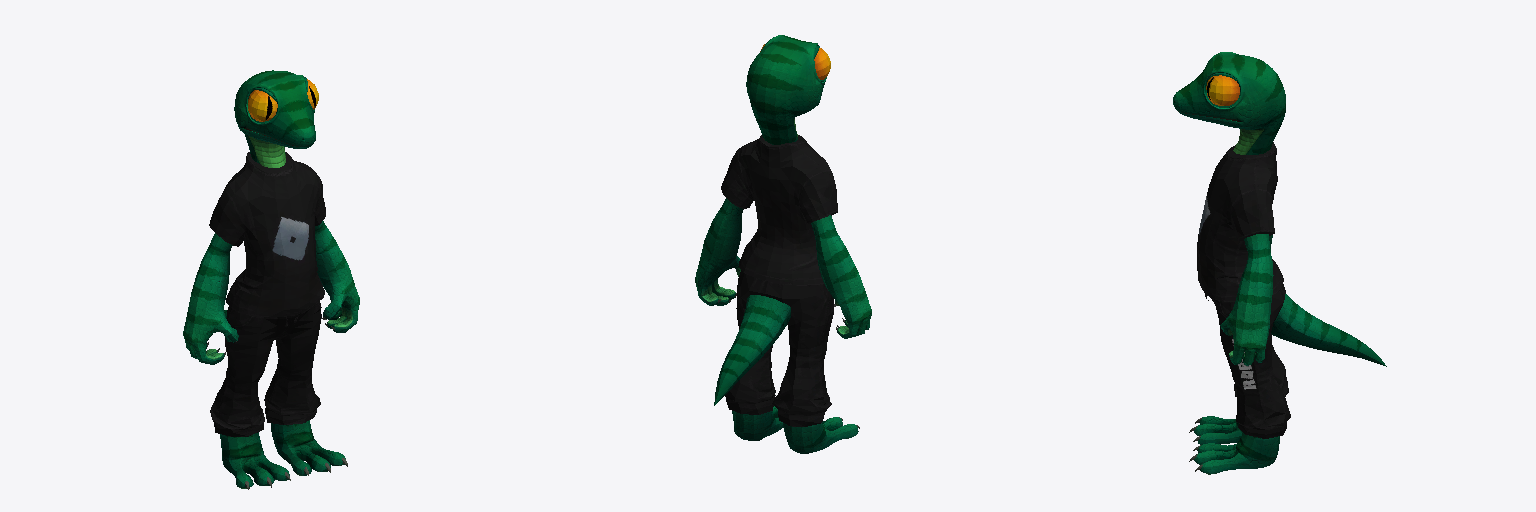
3 renders of one model, left to right at view 1: azimuth 30°, elevation 25°; view 2: azimuth 150°, elevation 25°; view 3: azimuth 270°, elevation 25°, orthographic.
Visible parts, largest first — view 1: Handle1, Handle2, 8, 9, 10, 3, 1, 5, 6, 2; view 2: Handle1, Handle2, 8, Handle3, 10, 6, 9, 5, 1, 3; view 3: Handle1, 8, Handle2, Handle3, 5, 6, 3, 1.
Part boxes in pixels (x1,y1,x2,y2): Handle1: (209,152,325,316); Handle2: (210,301,321,436); 8: (234,70,318,167); 9: (183,302,238,364); 10: (190,246,229,311); 3: (272,432,347,475); 1: (221,444,290,489); 5: (321,270,359,332); 6: (315,223,349,284); 2: (220,432,260,450); Handle1: (721,135,837,285); Handle2: (725,270,833,426); 8: (746,35,830,144); Handle3: (714,295,790,405); 10: (815,231,861,292); 6: (702,208,741,265); 9: (830,283,871,338); 5: (695,253,740,305); 1: (784,417,859,453); 3: (733,406,782,440); Handle1: (1197,142,1283,301); 8: (1173,52,1285,154); Handle2: (1205,284,1290,438); Handle3: (1271,294,1386,366); 5: (1220,310,1270,365); 6: (1233,253,1273,313); 3: (1189,440,1279,474); 1: (1189,416,1242,444).
Size of the model in its own units: 2.47 by 5.41 by 2.7.
4 materials, 4 textured.